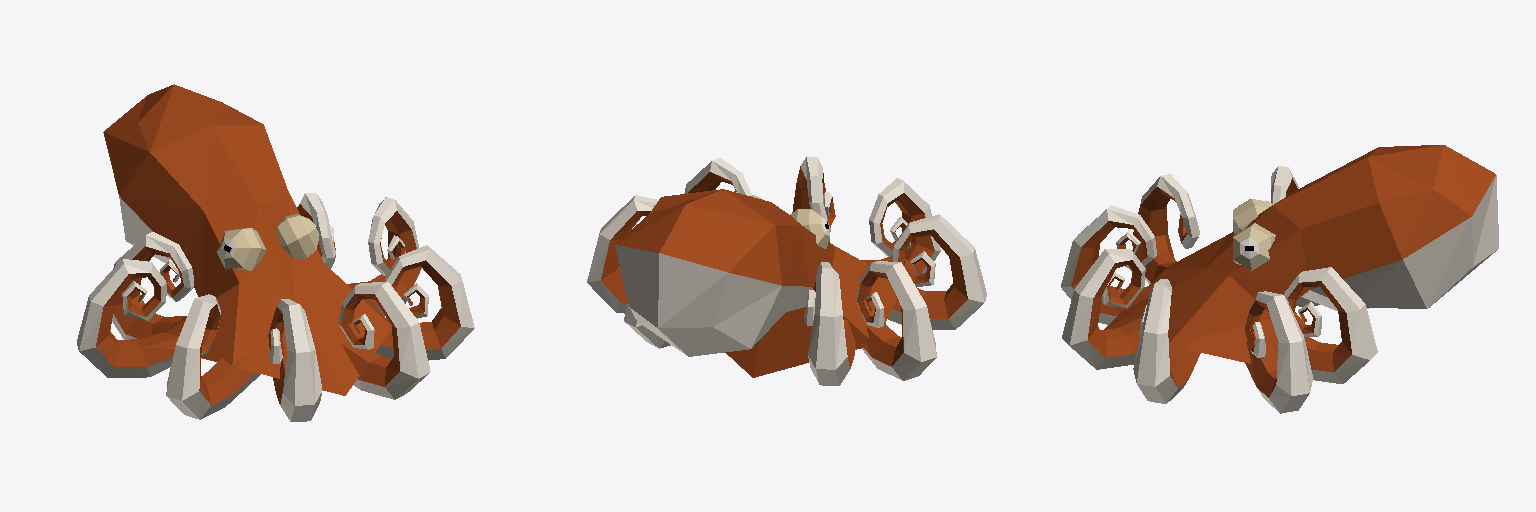
The picture shows the model from 3 angles: view 1: azimuth 30°, elevation 25°; view 2: azimuth 150°, elevation 25°; view 3: azimuth 270°, elevation 25°; orthographic projection.
Parts seen in each view (by area): view 1: Geo_Octopus; view 2: Geo_Octopus; view 3: Geo_Octopus.
Boxes of the visible parts, x1,y1,x2,y2 form: Geo_Octopus: [77, 84, 474, 421]; Geo_Octopus: [587, 156, 986, 385]; Geo_Octopus: [1061, 145, 1498, 413].
Size of the model in its own units: 93.08 by 57.34 by 102.
1 materials, 1 textured.